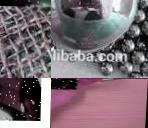ironball: (51, 0, 139, 52), (0, 78, 42, 120), (98, 59, 115, 77), (51, 78, 77, 89), (129, 50, 145, 66), (118, 61, 134, 74), (120, 39, 135, 52), (128, 24, 141, 37), (134, 8, 146, 21), (128, 69, 143, 78), (139, 61, 148, 76), (139, 35, 147, 51), (138, 0, 148, 9), (141, 21, 147, 35)
